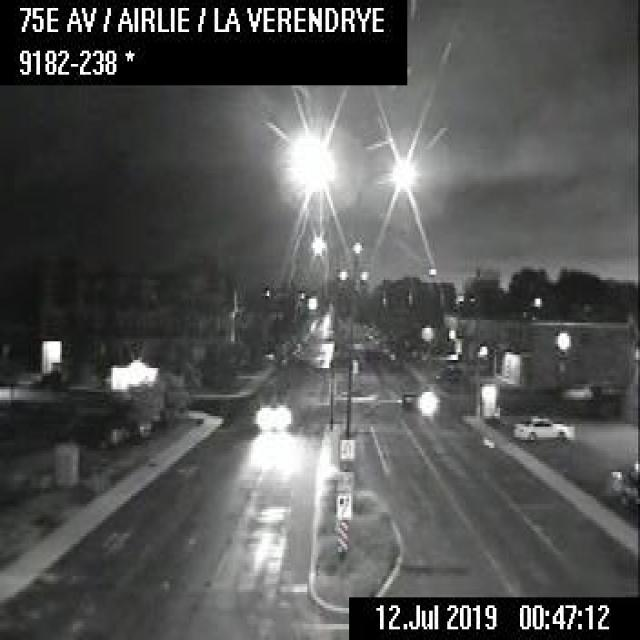vehicle: (67, 412, 126, 450), (512, 408, 574, 442), (253, 392, 289, 435), (610, 459, 637, 502), (561, 382, 591, 402)
